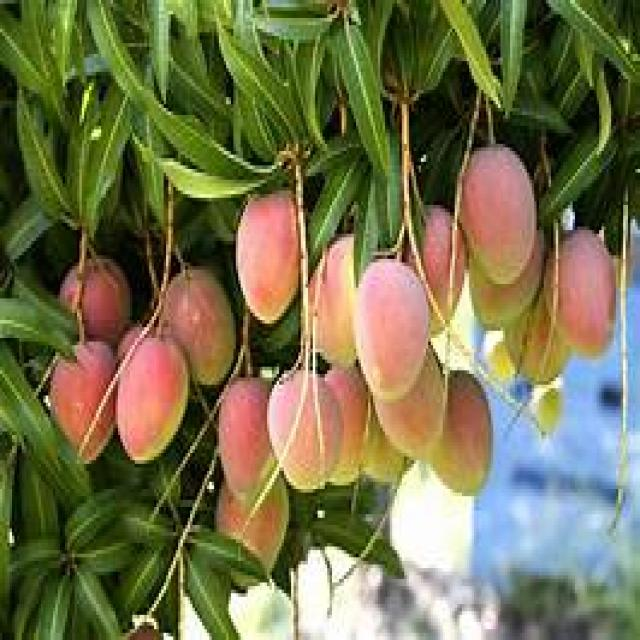Mango: (354, 257, 431, 398), (464, 142, 536, 285), (117, 333, 187, 465), (546, 227, 618, 355), (270, 376, 344, 494), (236, 199, 297, 325), (220, 374, 270, 501), (450, 370, 497, 498), (170, 264, 232, 343)
